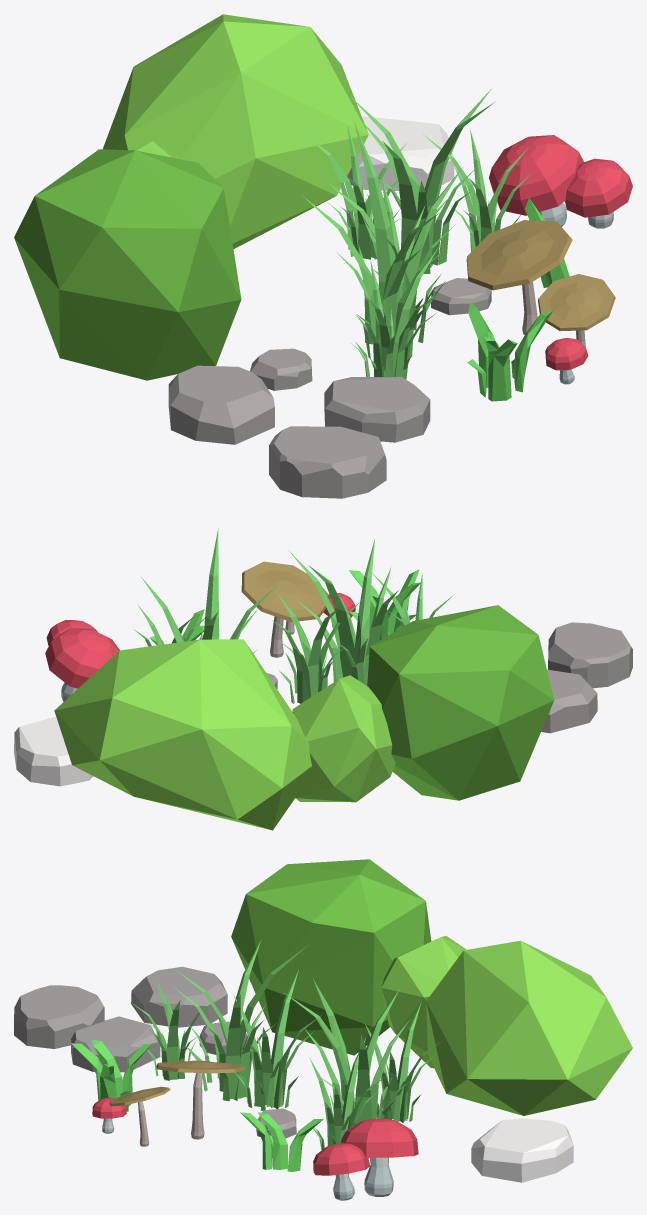
File: vegetacion.glb
3 renders of one model, top to bottom at view 1: azimuth 30°, elevation 25°; view 2: azimuth 150°, elevation 25°; view 3: azimuth 270°, elevation 25°, orthographic. The views are drawn at different scales.
Size of the model in its own units: 1.18 by 0.4292 by 1.33.
2 materials, 2 textured.
